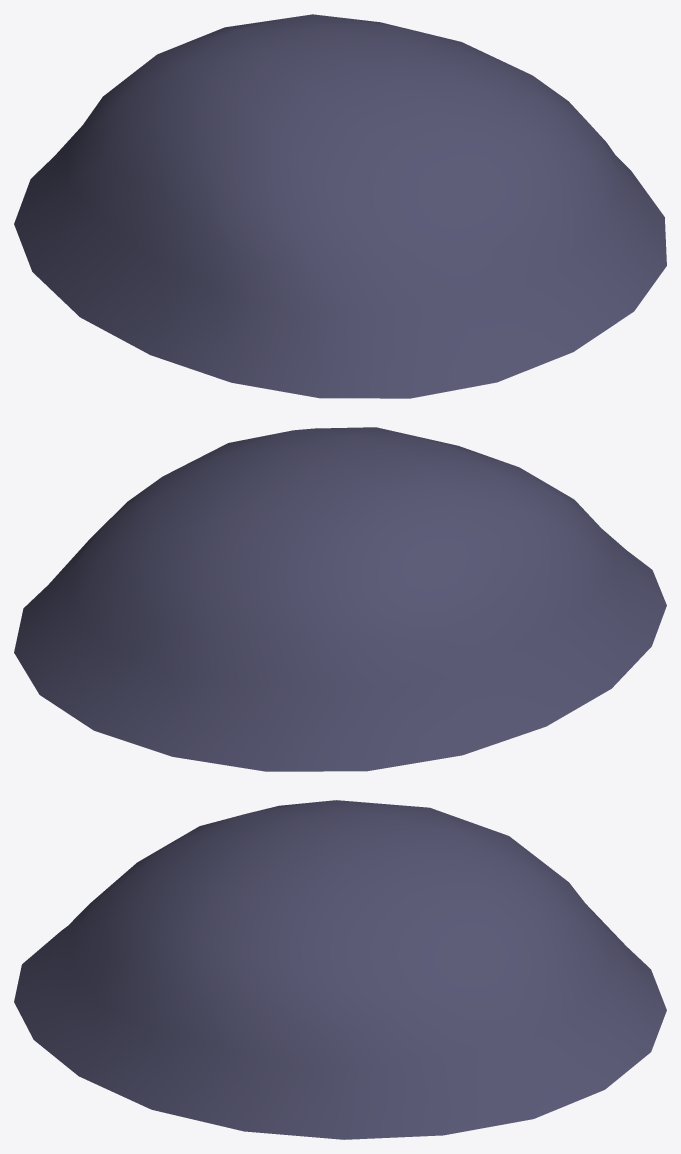
The model's file is Hill1_Bogdan.fbx.
3 views of the same model, one above another, from view 1: azimuth 30°, elevation 25°; view 2: azimuth 150°, elevation 25°; view 3: azimuth 270°, elevation 25° (orthographic). The views are drawn at different scales.
Visible parts, largest first — view 1: Hill1; view 2: Hill1; view 3: Hill1.
Boxes of the visible parts, <box> form: Hill1: <box>14,14,666,398</box>; Hill1: <box>14,427,666,771</box>; Hill1: <box>14,800,666,1139</box>.
Bounding box in the file's own units: 497 × 160 × 544.
